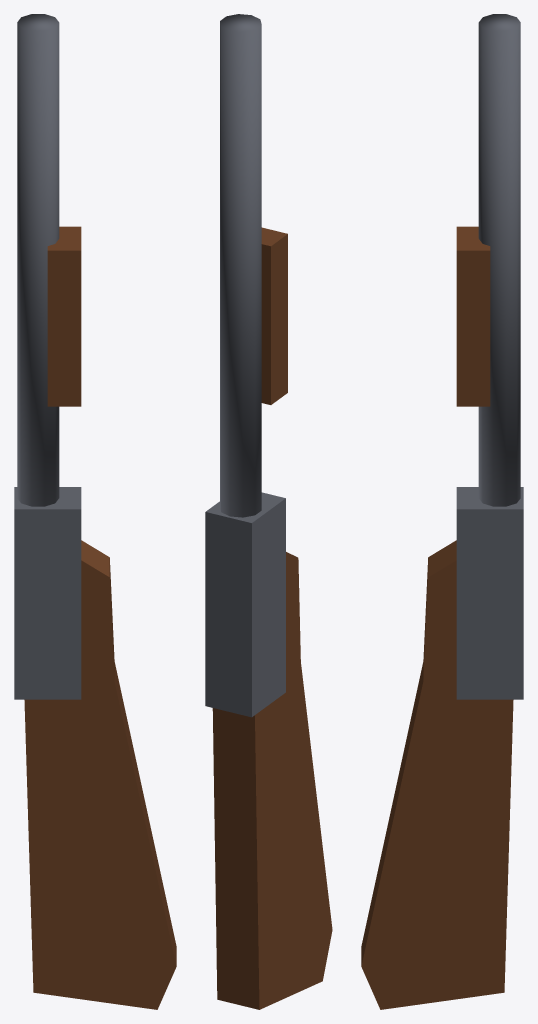
File: shotgun.glb
The picture shows the model from 3 angles, left to right: view 1: azimuth 90°, elevation 25°; view 2: azimuth 150°, elevation 25°; view 3: azimuth 270°, elevation 25°; orthographic projection. The views are drawn at different scales.
Parts seen in each view (by area): view 1: shotgun_v0; view 2: shotgun_v0; view 3: shotgun_v0.
Part boxes in pixels (box(x1,y1,x2,y2)): shotgun_v0: box(14, 14, 176, 1009); shotgun_v0: box(205, 14, 332, 1009); shotgun_v0: box(361, 14, 523, 1009).
Bounding box in the file's own units: 0.06 × 1.13 × 0.17.
